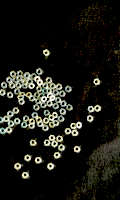nut: (58, 144, 65, 152), (87, 115, 94, 123), (36, 68, 43, 76), (22, 172, 29, 179), (14, 163, 21, 170), (47, 163, 54, 170), (54, 152, 61, 159), (74, 146, 81, 153), (44, 140, 51, 147), (30, 140, 37, 147), (49, 135, 56, 142), (56, 136, 63, 143), (65, 128, 72, 135), (72, 130, 79, 137), (70, 123, 77, 130), (76, 122, 83, 129), (88, 106, 95, 113), (14, 118, 21, 125), (21, 122, 28, 129), (3, 116, 10, 123), (23, 116, 30, 123), (29, 119, 36, 126), (42, 125, 49, 132), (36, 117, 43, 124), (32, 112, 39, 119), (43, 118, 50, 125), (53, 120, 60, 127), (58, 116, 65, 123), (48, 115, 55, 122), (44, 110, 51, 117), (66, 104, 73, 111), (33, 104, 40, 111), (40, 102, 47, 109), (55, 97, 62, 104), (7, 92, 14, 99), (49, 95, 56, 102), (65, 86, 72, 93), (56, 84, 63, 91), (37, 79, 44, 86), (34, 76, 41, 83), (28, 83, 35, 90), (6, 77, 13, 84), (16, 75, 23, 82), (10, 71, 17, 78), (43, 50, 50, 57), (59, 109, 67, 115), (17, 95, 25, 101), (13, 89, 21, 95), (25, 155, 31, 162), (35, 158, 42, 164), (52, 141, 58, 148), (95, 105, 101, 112), (94, 79, 101, 85), (0, 128, 6, 135), (6, 127, 12, 134), (8, 121, 15, 127), (28, 124, 35, 130), (7, 111, 13, 118), (12, 108, 19, 114), (37, 122, 44, 128), (49, 122, 55, 129), (52, 112, 58, 119), (47, 100, 53, 107), (53, 103, 59, 110), (60, 101, 67, 107), (35, 98, 41, 105), (0, 89, 6, 96), (26, 92, 32, 99), (41, 96, 48, 102), (34, 92, 41, 98), (59, 91, 66, 97), (42, 88, 48, 95), (46, 88, 52, 95), (50, 83, 56, 90), (36, 86, 43, 92), (46, 77, 52, 84), (15, 83, 22, 89), (9, 83, 16, 89), (1, 82, 7, 89), (21, 80, 28, 86), (31, 73, 37, 80), (23, 73, 30, 79), (29, 96, 35, 102), (47, 93, 53, 99), (39, 93, 45, 99), (53, 90, 59, 96), (43, 83, 49, 89), (22, 83, 28, 89), (27, 79, 33, 85), (20, 77, 26, 83), (13, 77, 19, 83), (17, 71, 23, 77), (18, 100, 25, 105), (19, 92, 26, 97), (0, 117, 4, 124)
